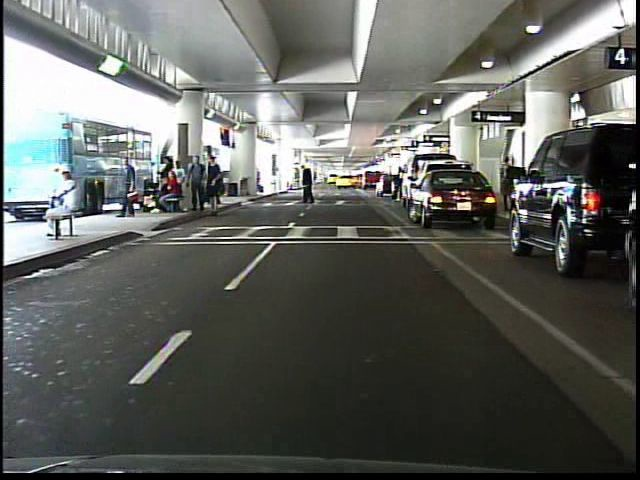person: (40, 164, 84, 242), (114, 150, 143, 222), (297, 162, 321, 208)
